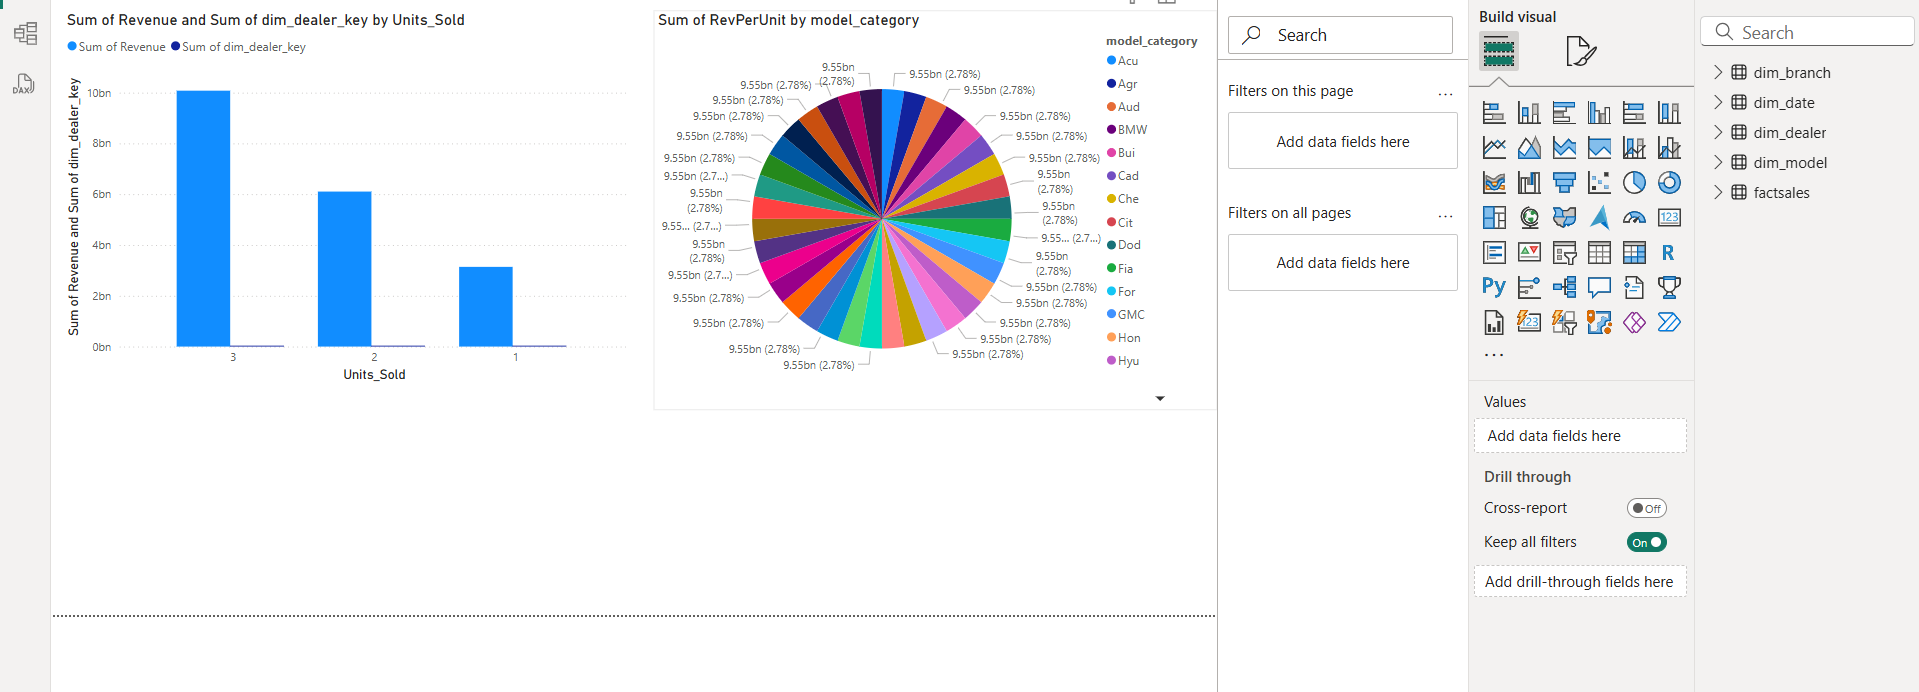

Layout of this report page (visuals, bound fields, positions):
{"tool":"powerbi","page":{"name":"Page 1","canvas":[1280,720],"ordinal":0},"visuals":[{"type":"pieChart","fields":{"Y":["Sum(factsales.RevPerUnit)"],"Category":["dim_model.model_category"]},"box":[661.4,56.3,618.9,439.1],"z":0},{"type":"clusteredColumnChart","fields":{"Y":["Sum(factsales.Revenue)","Sum(factsales.dim_dealer_key)"],"Category":["factsales.Units_Sold"]},"box":[12.3,56.3,627.1,413],"z":1}]}

Visuals, with their boxes on the page's 1280x720 design canvas (x1, y1, x2, y2). These are canvas units, not pixel positions in the 1919x692 screenshot, which may show the page scaled, cropped or inside an application window:
pieChart - Sum(factsales.RevPerUnit) x dim_model.model_category: bbox(661, 56, 1280, 495)
clusteredColumnChart - Sum(factsales.Revenue) x Sum(factsales.dim_dealer_key): bbox(12, 56, 639, 469)
